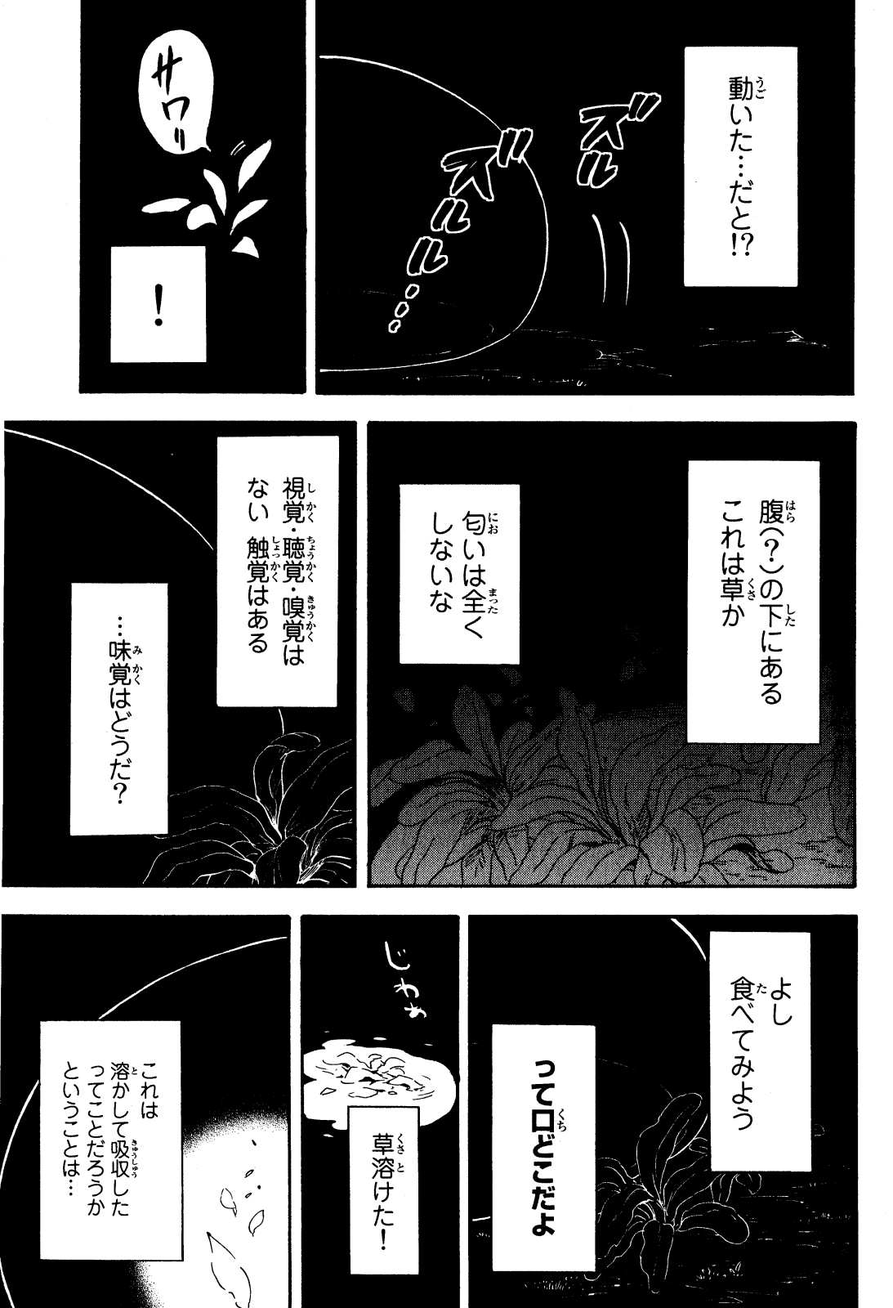bubbles: (677, 450, 827, 753), (33, 1016, 190, 1267), (209, 432, 342, 711), (669, 38, 810, 296), (389, 477, 535, 678), (487, 1020, 600, 1276), (704, 925, 814, 1178), (67, 578, 173, 839), (100, 237, 224, 373), (342, 1096, 426, 1283), (127, 25, 227, 165)
